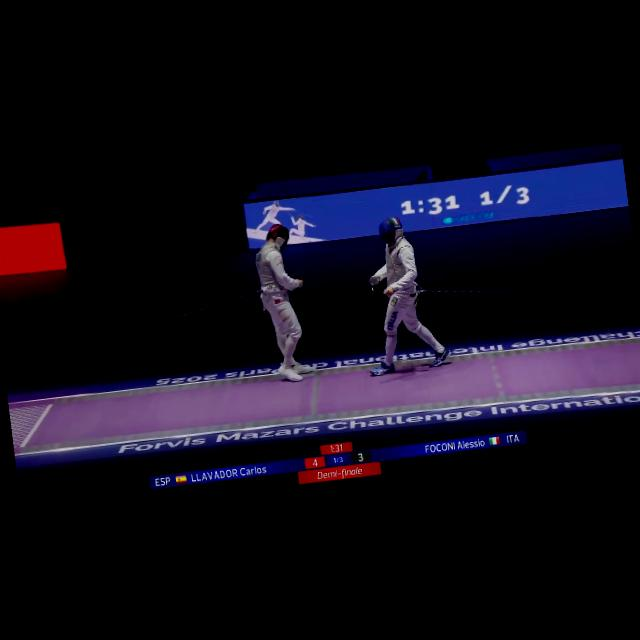blade: (294, 273, 346, 310), (364, 272, 384, 296)
